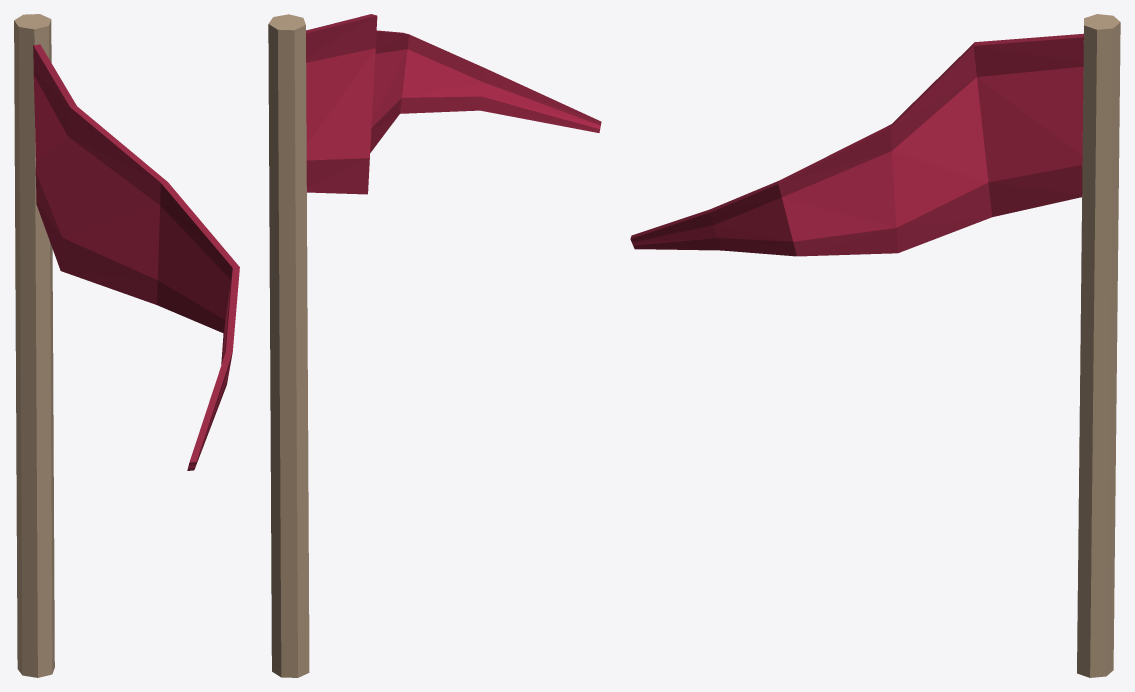
Rendered from FlagRed.fbx.
3 renders of one model, left to right at view 1: azimuth 30°, elevation 25°; view 2: azimuth 150°, elevation 25°; view 3: azimuth 270°, elevation 25°, orthographic.
Parts seen in each view (by area): view 1: Flag; view 2: Flag; view 3: Flag.
Boxes of the visible parts, x1,y1,x2,y2 form: Flag: (14,14,239,677); Flag: (268,14,601,677); Flag: (630,14,1120,677).
Bounding box in the file's own units: 117 × 585 × 401.
